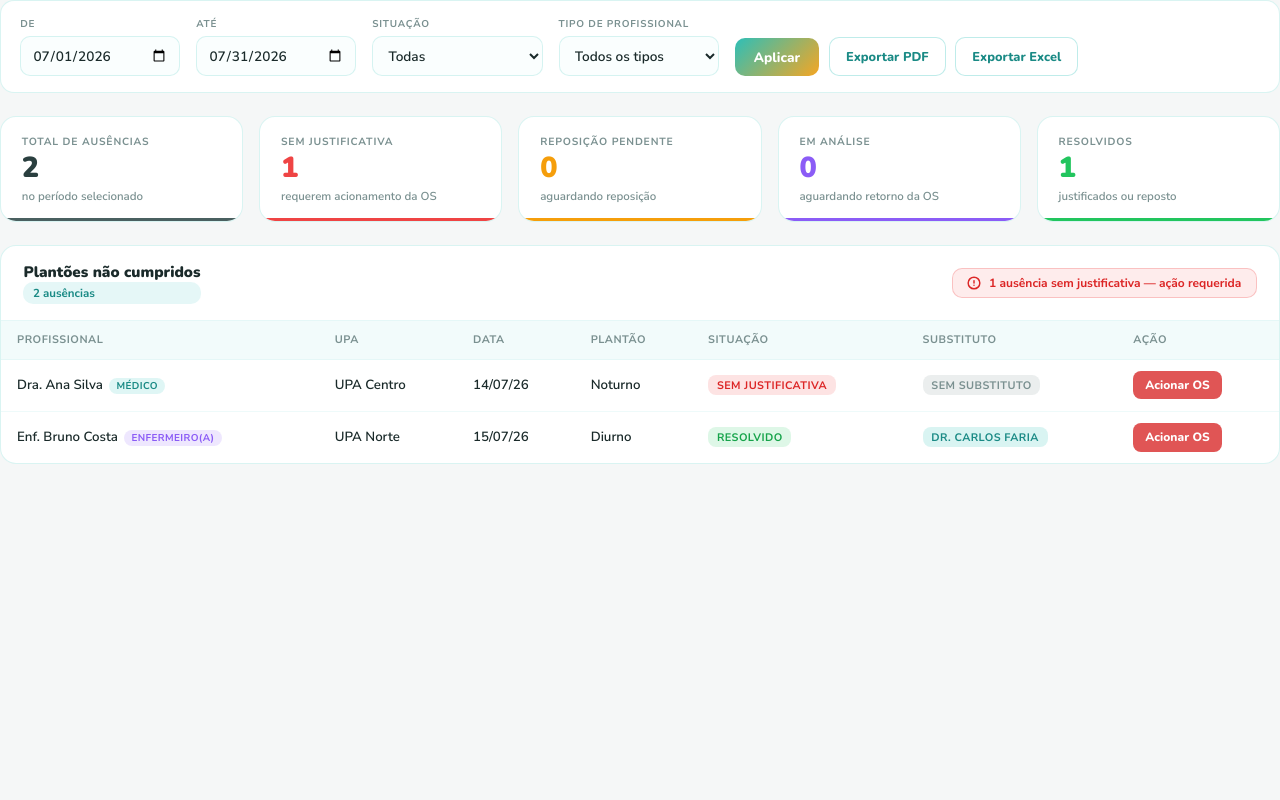
it: <PrefeituraAusencias /> › após erro mostra modalError e mantém modal aberto
Step 1. Click the button "Acionar OS" in the row of "Dra. Ana Silva" → point(1178, 385), box [1133, 371, 1222, 400]
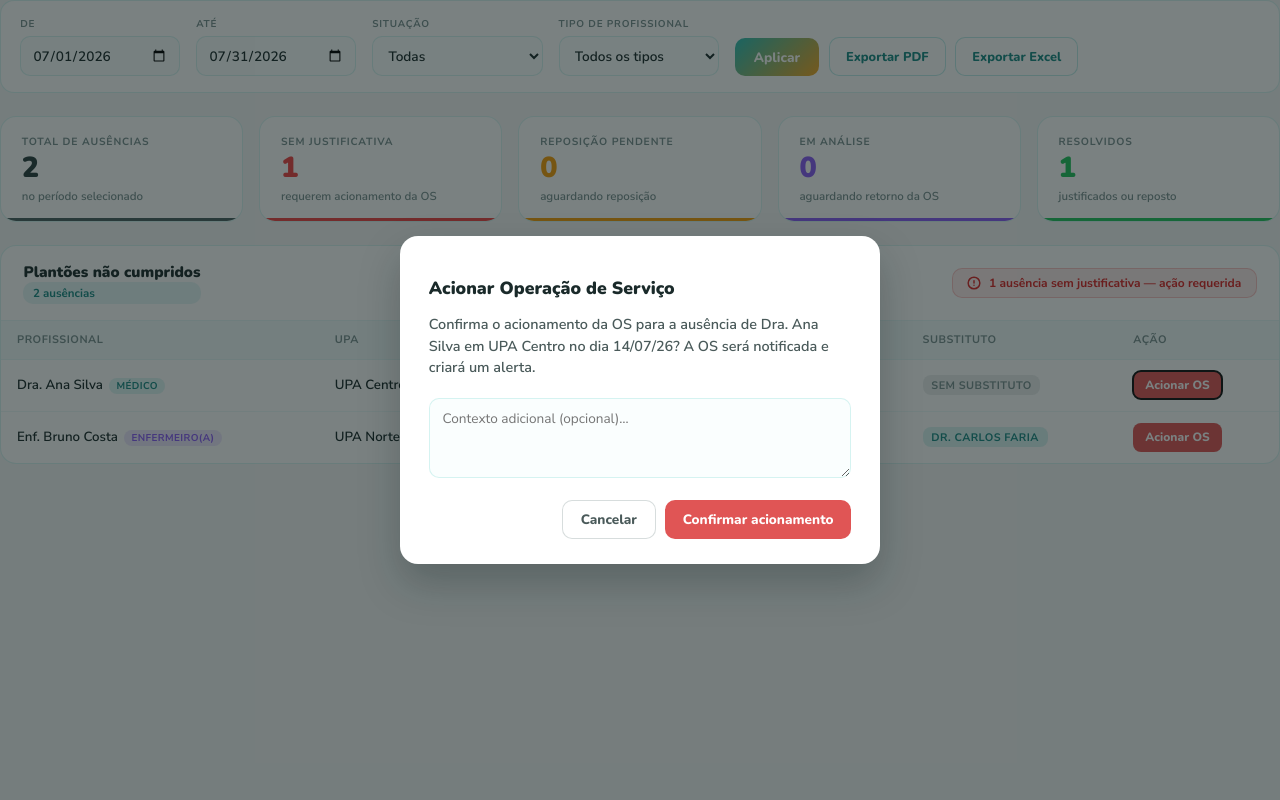
Step 2. Click the button "Confirmar acionamento" → point(758, 520), box [665, 500, 851, 539]
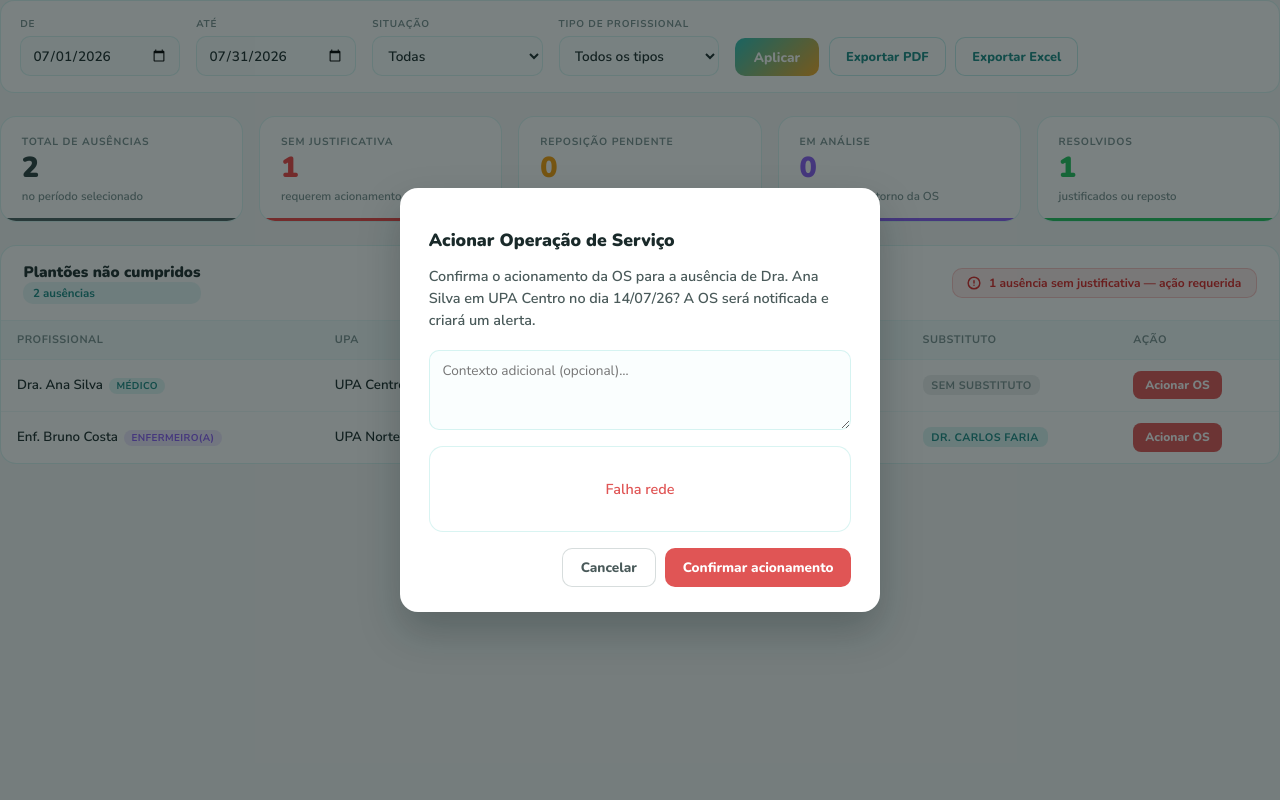
expect the dialog is shown: met
expect the text "Falha rede" is shown: met, box [429, 446, 851, 532]
